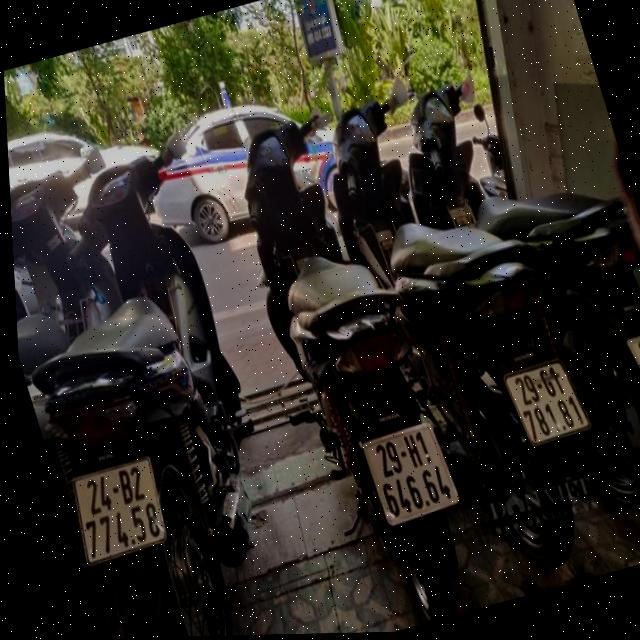motorcycle: (196, 81, 501, 631), (6, 118, 325, 640), (384, 183, 640, 584)
plate: (55, 445, 178, 571), (355, 413, 465, 533), (497, 348, 595, 454), (621, 315, 640, 417)
